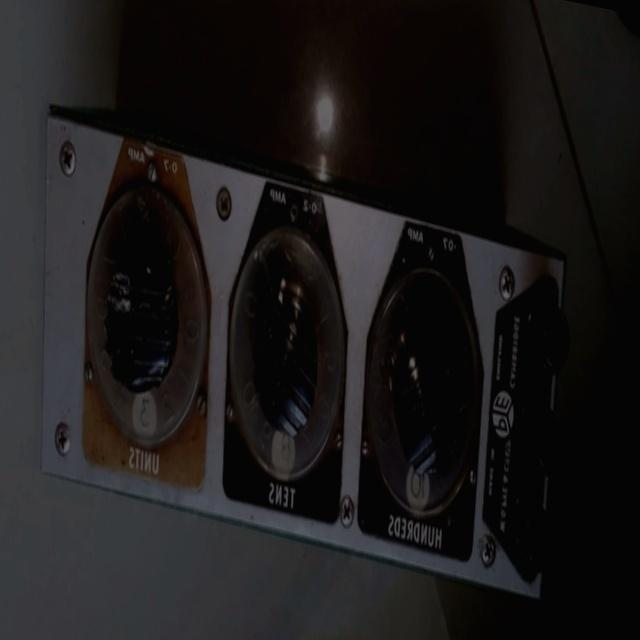Dial Resistance Box: (7, 72, 578, 609)
